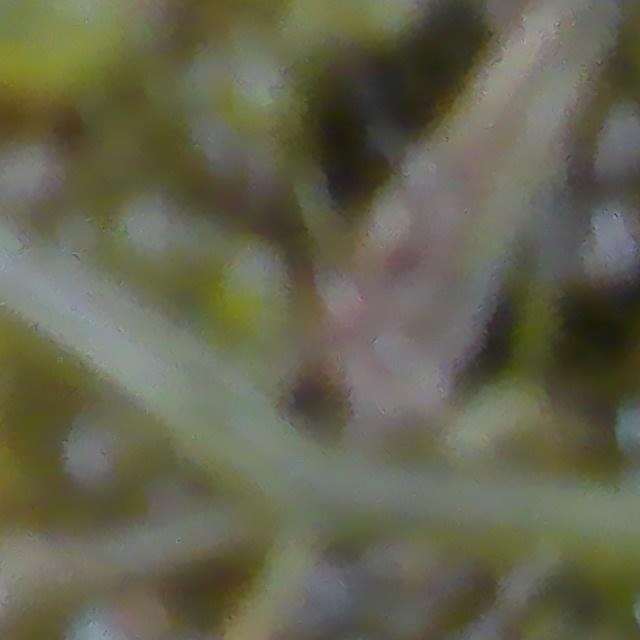SeaGrape: (99, 184, 202, 284), (204, 228, 300, 333)
